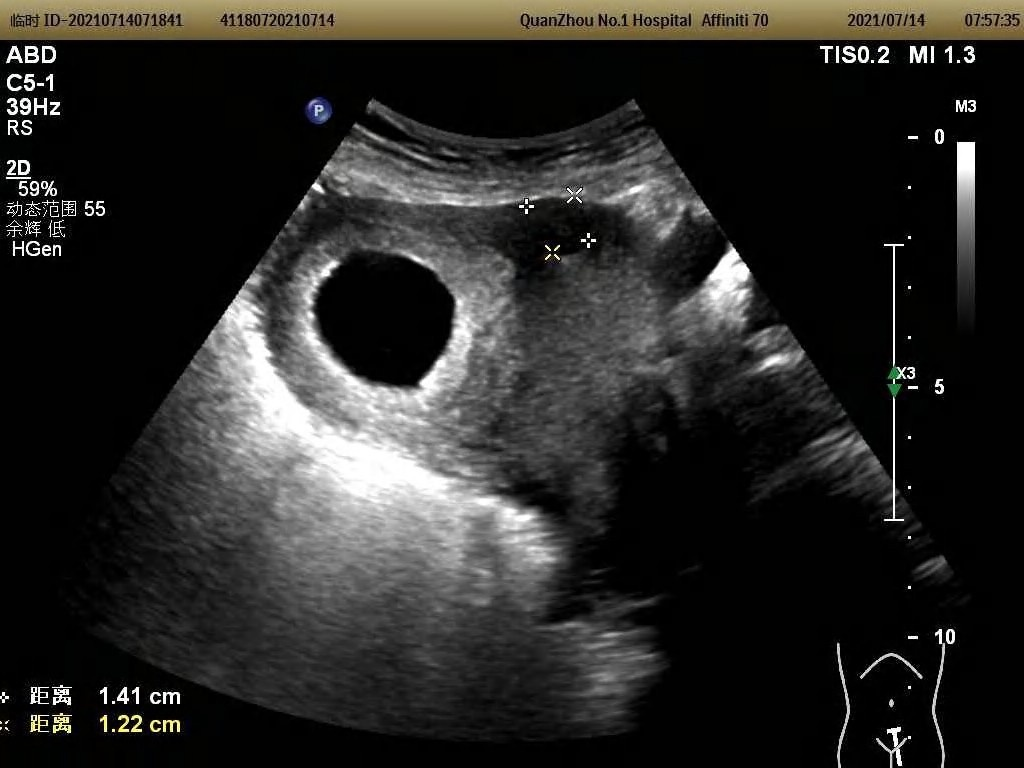肌瘤: (526, 196, 591, 255)
